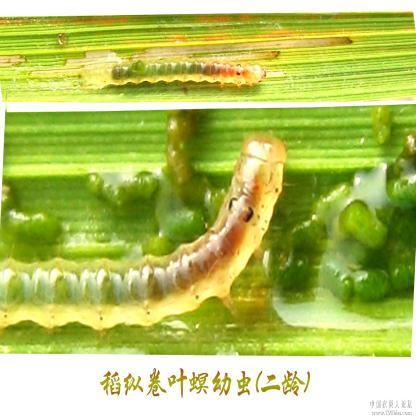leaf-folder: (4, 126, 295, 336), (60, 51, 274, 102)
